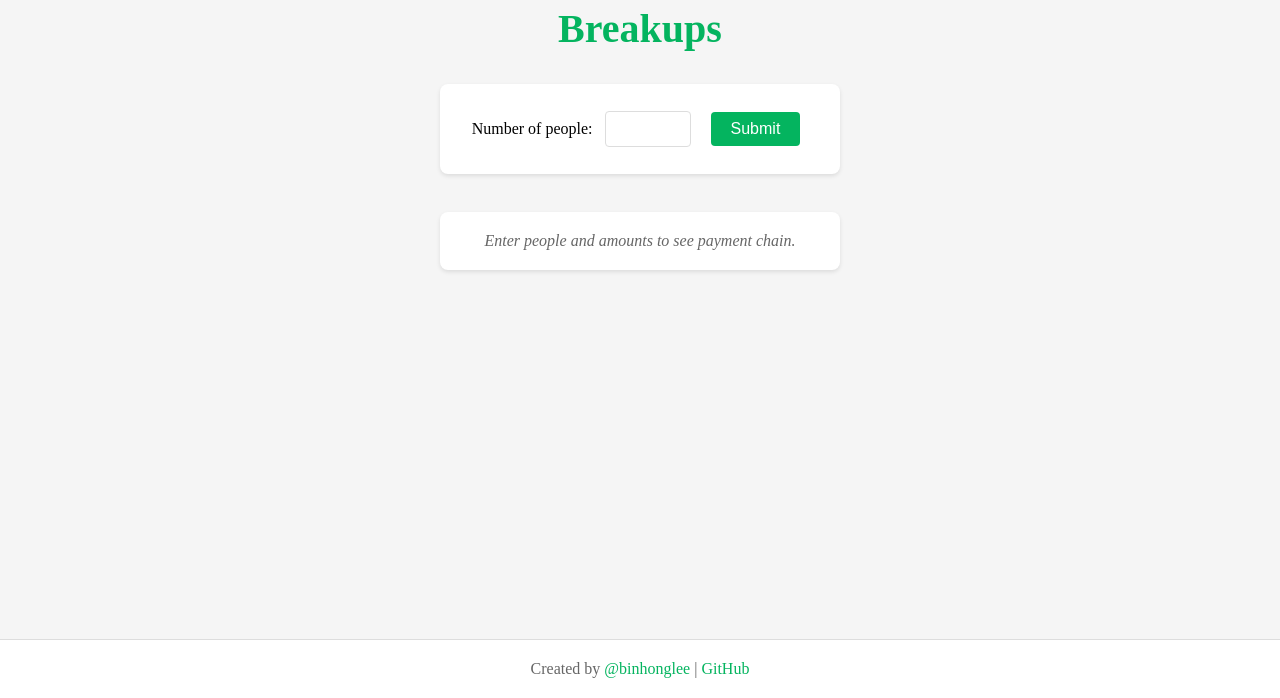
it: Home › shows payment chain button after adding people
The image size is (1280, 698).
Type "3" into the field at x=648, y=129, box [604,111,690,147]
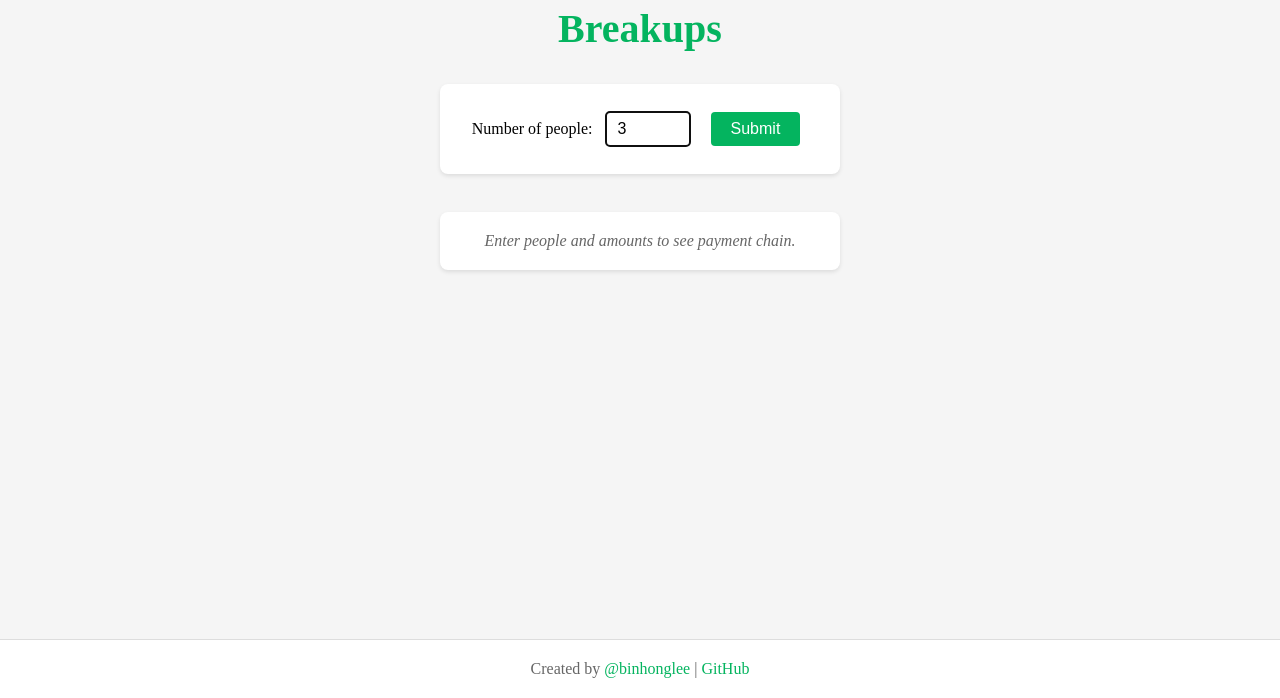
Click the button "Submit" at x=755, y=129, box [710,112,800,146]
(page scrolled)
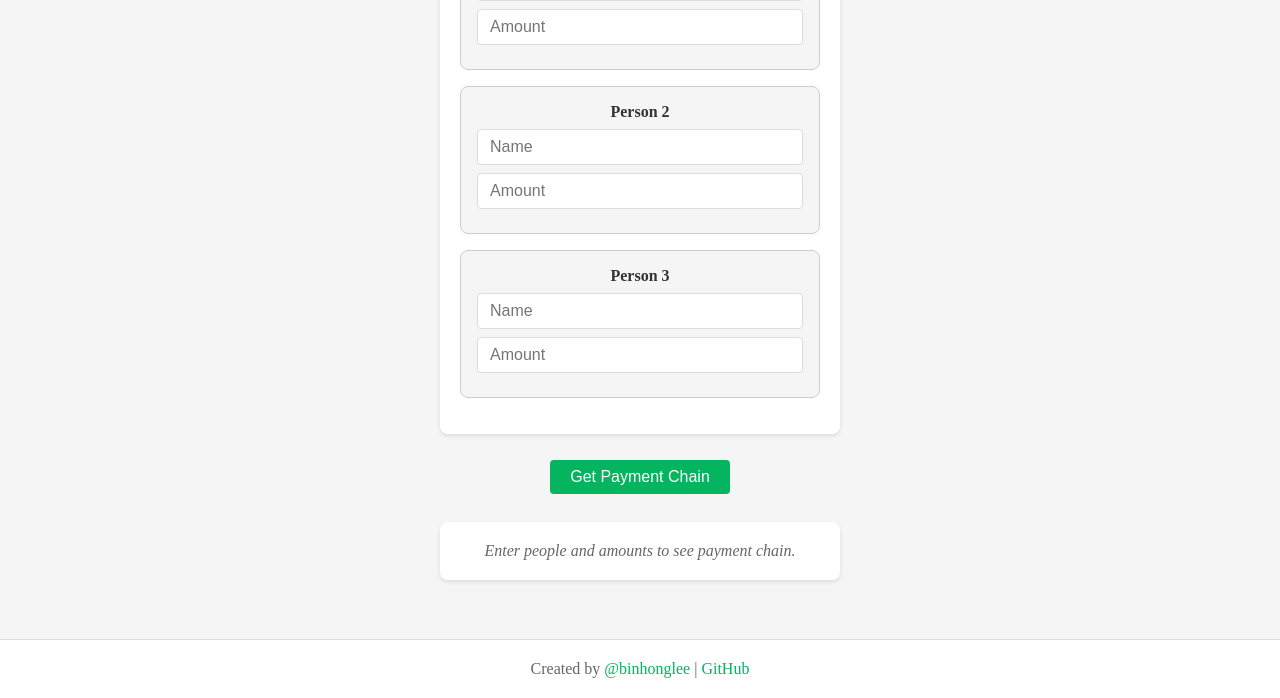
Now the button "Get Payment Chain" is shown, box [550,460,730,494]
